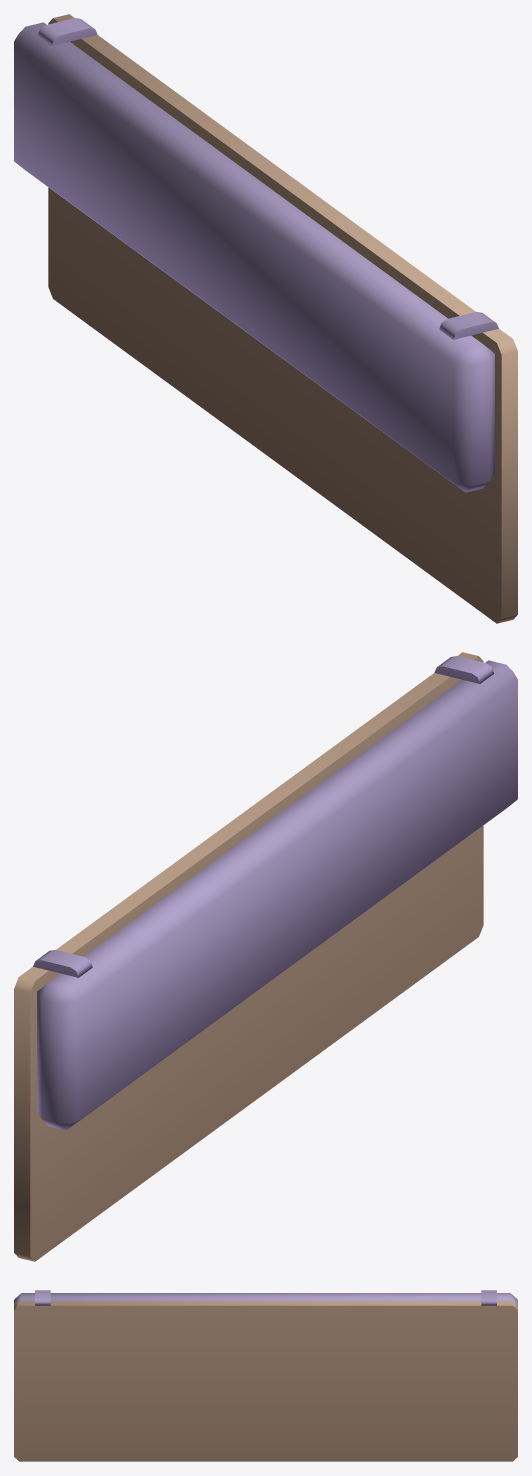
The model's file is bed-backboard-padding-upper-wide.glb.
3 renders of one model, top to bottom at view 1: azimuth 30°, elevation 25°; view 2: azimuth 150°, elevation 25°; view 3: azimuth 270°, elevation 25°, orthographic. The views are drawn at different scales.
Visible parts, largest first — view 1: bed-backboard-padding-upper-wide; view 2: bed-backboard-padding-upper-wide; view 3: bed-backboard-padding-upper-wide.
Part boxes in pixels (bbox=[...]): bed-backboard-padding-upper-wide: bbox=[14, 14, 517, 623]; bed-backboard-padding-upper-wide: bbox=[14, 652, 517, 1261]; bed-backboard-padding-upper-wide: bbox=[14, 1290, 517, 1461].
Bounding box in the file's own units: 0.175 × 0.845 × 2.4.
